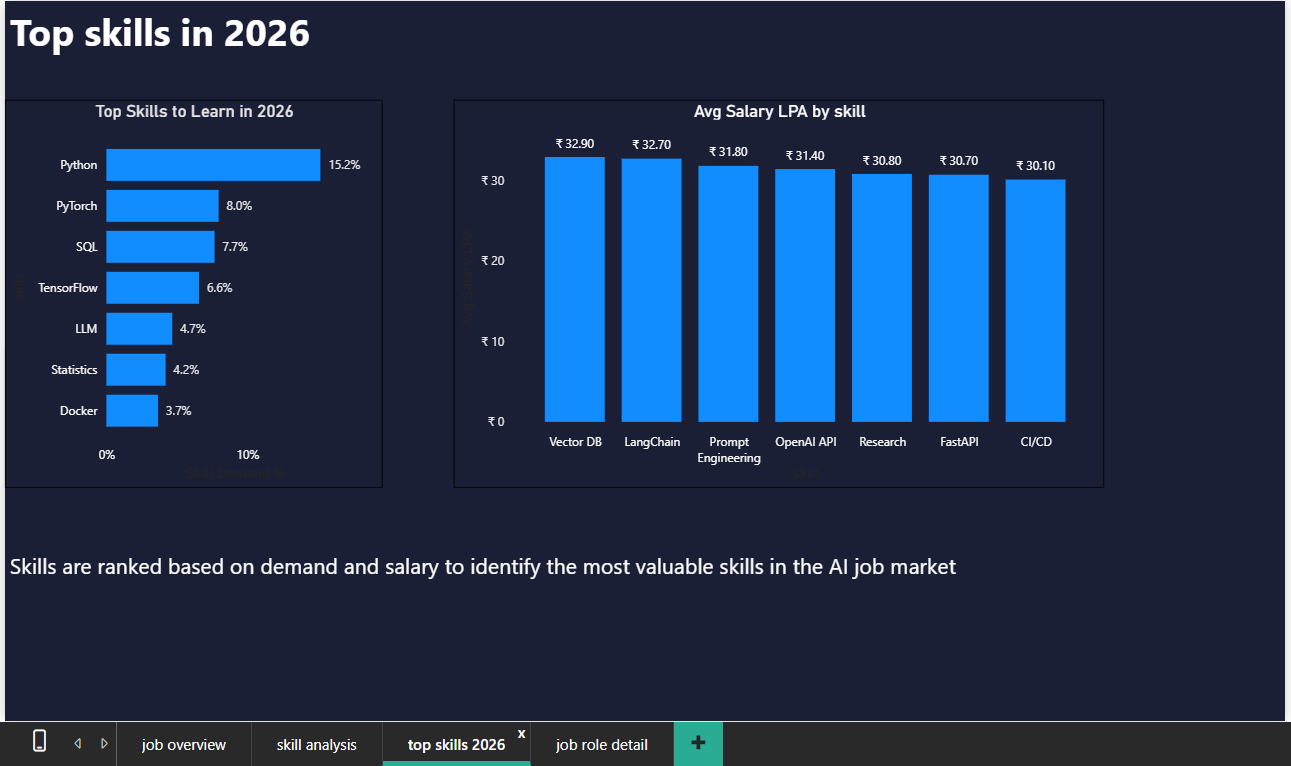

Layout of this report page (visuals, bound fields, positions):
{"tool":"powerbi","page":{"name":"top skills 2026","canvas":[1280,720],"ordinal":2},"visuals":[{"type":"clusteredBarChart","title":"Top Skills to Learn in 2026","fields":{"Category":["ai_job_market_india.skill"],"Y":["calculation_Table.Skill Demand %"]},"box":[0,98.8,377.4,388.3],"z":0},{"type":"clusteredColumnChart","fields":{"Category":["ai_job_market_india.skill"],"Y":["calculation_Table.Avg Salary"]},"box":[448.7,98.8,650.4,388.3],"z":1000},{"type":"textbox","box":[0,0,340.3,72.7],"z":2000},{"type":"textbox","box":[0,545.5,1066.7,60.6],"z":3000}]}

Visuals, with their boxes on the page's 1280x720 design canvas (x1, y1, x2, y2). These are canvas units, not pixel positions in the 1291x766 screenshot, which may show the page scaled, cropped or inside an application window:
"Top Skills to Learn in 2026" clusteredBarChart: [left=0, top=99, right=377, bottom=487]
clusteredColumnChart - ai_job_market_india.skill x calculation_Table.Avg Salary: [left=449, top=99, right=1099, bottom=487]
textbox: [left=0, top=0, right=340, bottom=73]
textbox: [left=0, top=546, right=1067, bottom=606]
